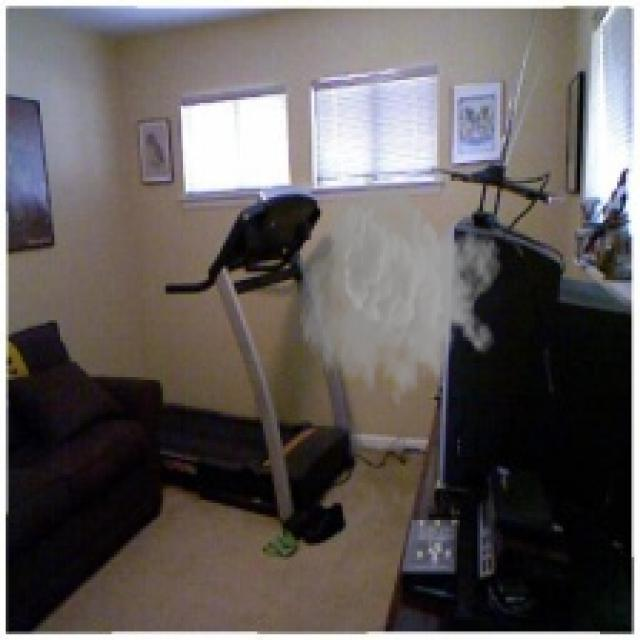Smoke: (297, 172, 503, 418)
